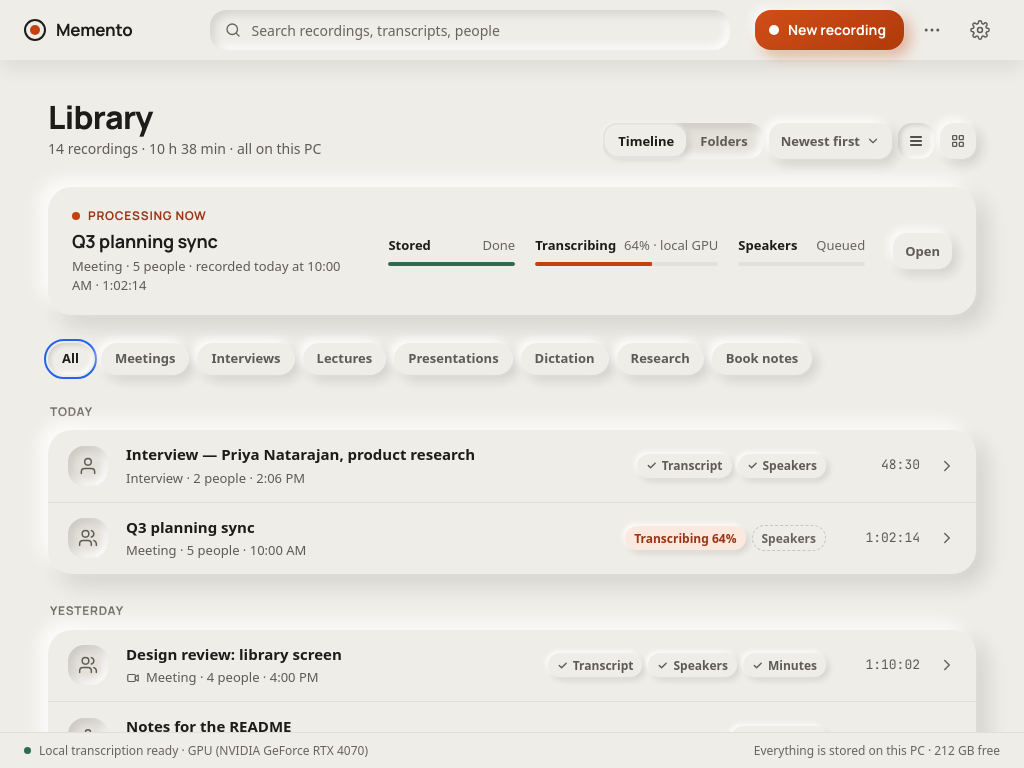
Test: Library, populated (against the browser-preview host) › filters with the chips (arrow keys move, Enter chooses) and hides the processing card
This screenshot has width=1024, height=768.
Press ArrowRight in the button with class "chip" showing "All", box [48,343,93,375]
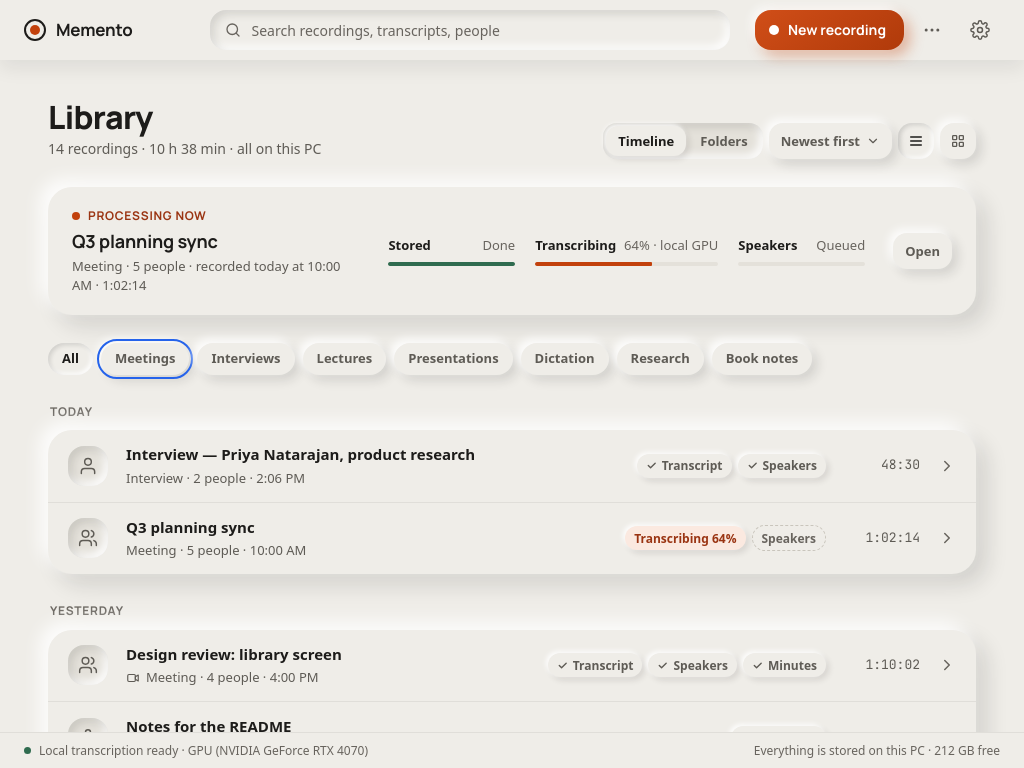
Press ArrowRight in the button with class "chip" showing "All", box [48,343,93,375]
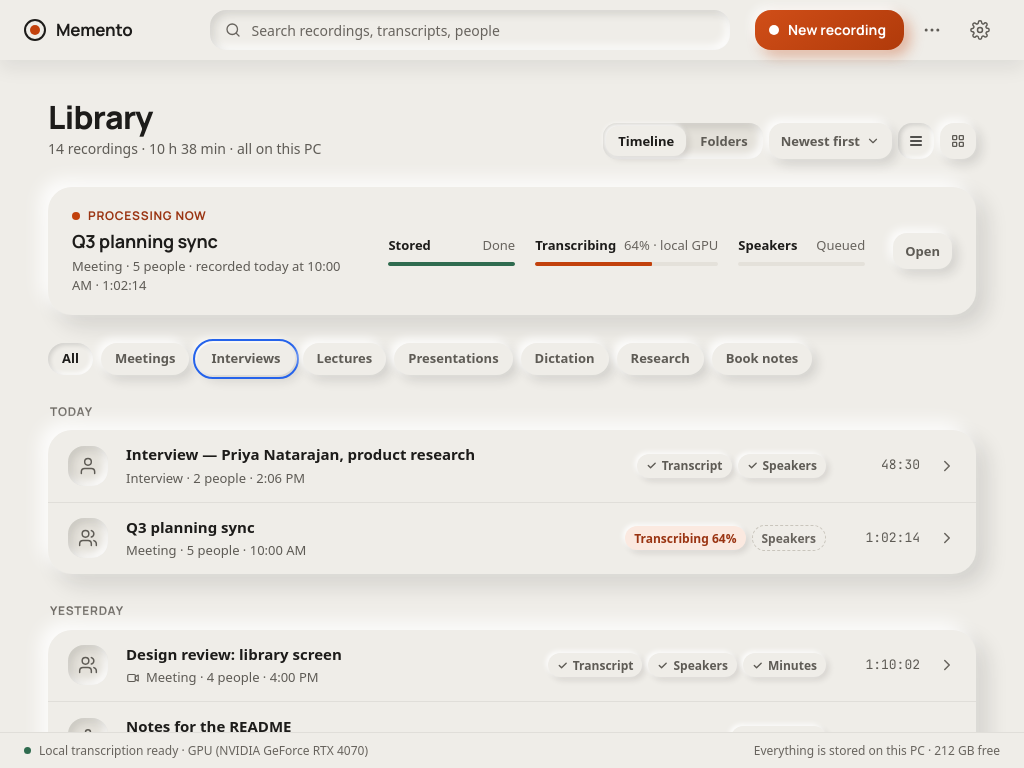
Click the button "Interviews".
click(246, 359)  # box [197,343,295,375]
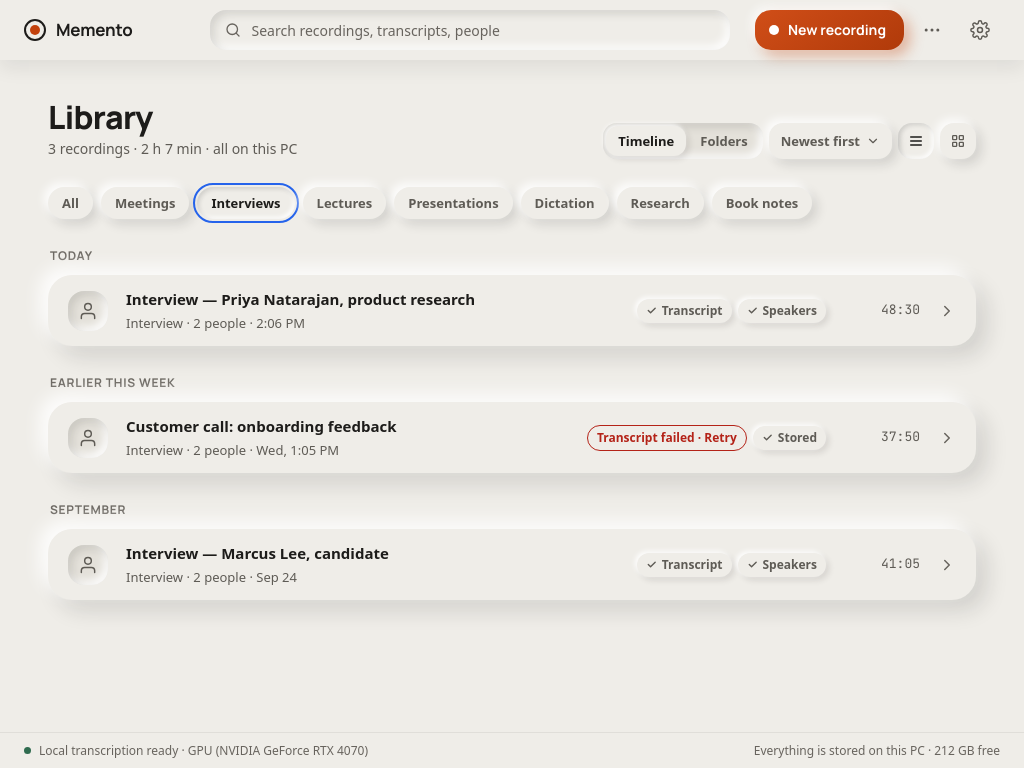
Expected: the text with class "lib-summary" shows "3 recordings ·", [48,139,297,158]
